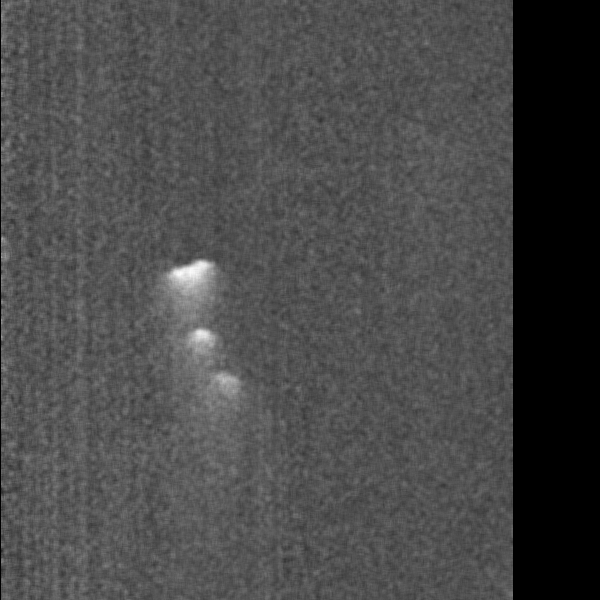spark: (143, 261, 236, 319), (200, 369, 249, 413), (175, 323, 220, 358)
